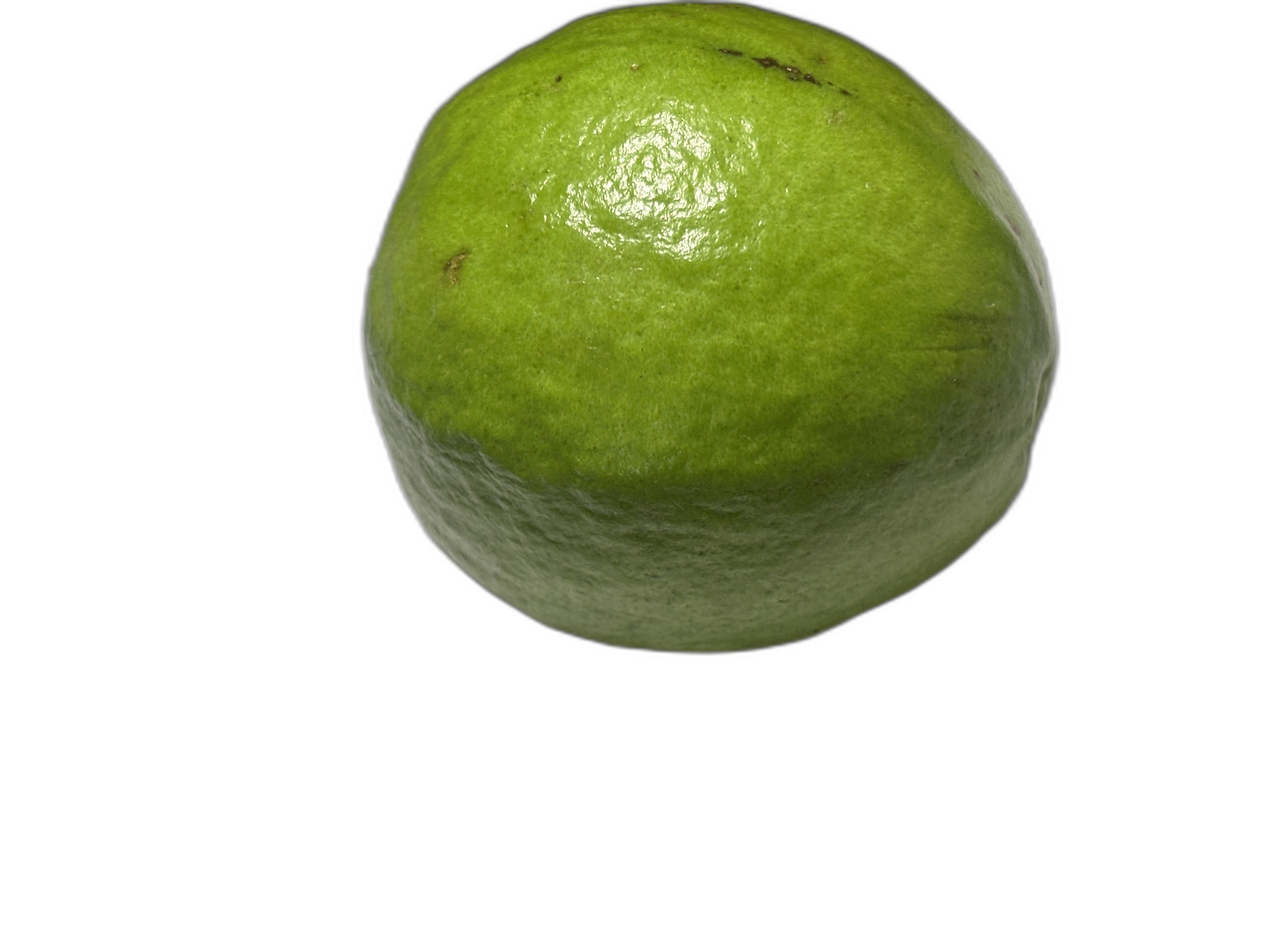guava: (280, 156, 1107, 950)
